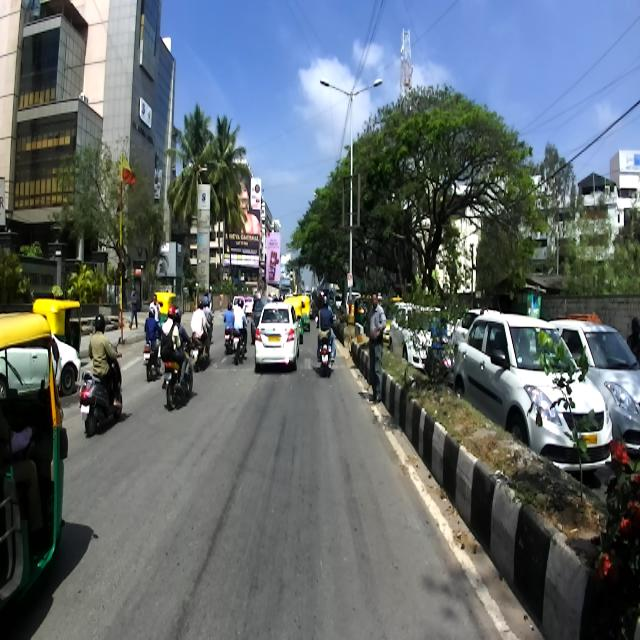car ahead at: (252, 294, 302, 378)
motorcycle ahead at: (156, 348, 202, 414), (312, 327, 338, 378)
person ahead at: (364, 287, 397, 410)
